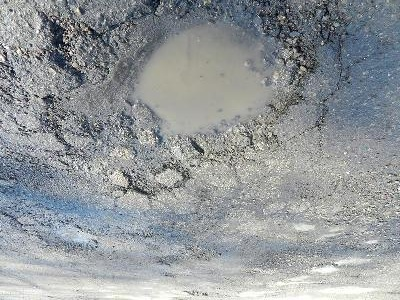pothole: (44, 0, 319, 167), (119, 169, 164, 199)
